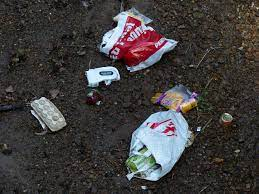General waste: (116, 110, 200, 183), (97, 7, 183, 71), (26, 94, 73, 142), (148, 81, 205, 119), (77, 62, 123, 88), (77, 90, 107, 110)
